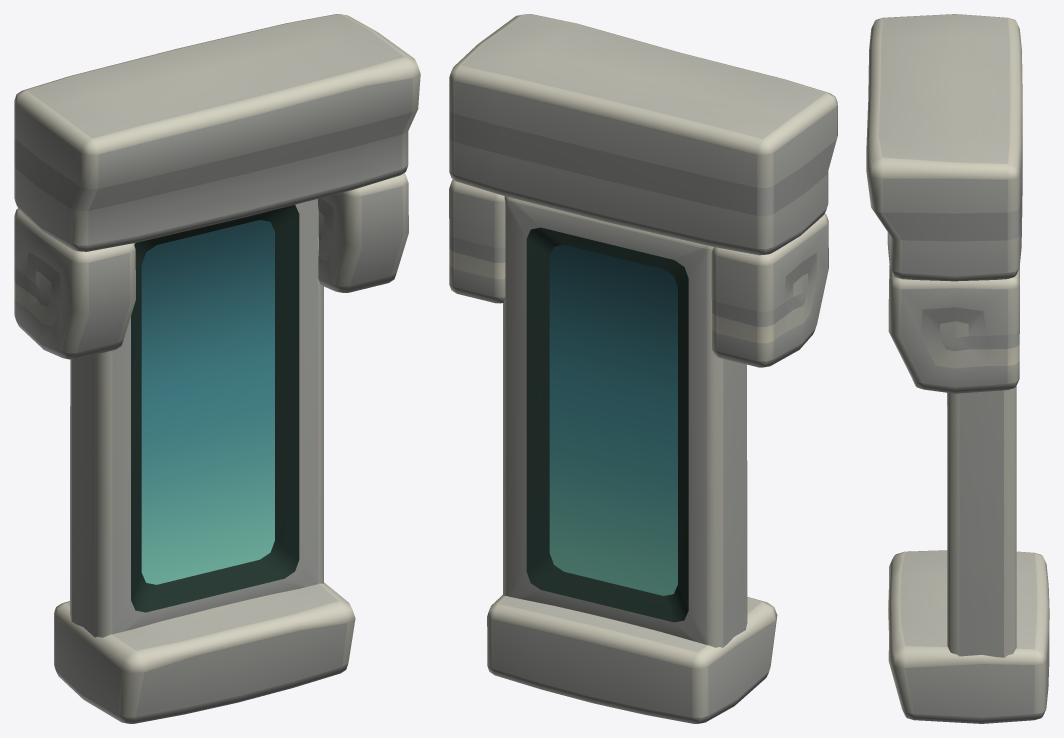
Rendered from window_ornate4_LOD_setup.fbx.
3 renders of one model, left to right at view 1: azimuth 30°, elevation 25°; view 2: azimuth 150°, elevation 25°; view 3: azimuth 270°, elevation 25°, orthographic. The views are drawn at different scales.
Parts seen in each view (by area): view 1: window_ornate4_LOD0; view 2: window_ornate4_LOD0; view 3: window_ornate4_LOD0.
Part boxes in pixels (left/top/right/bottom): window_ornate4_LOD0: left=14, top=14, right=420, bottom=723; window_ornate4_LOD0: left=449, top=14, right=837, bottom=723; window_ornate4_LOD0: left=866, top=14, right=1049, bottom=723.
Size of what is drawn, in the model's own units: 156 by 272 by 76.33.
